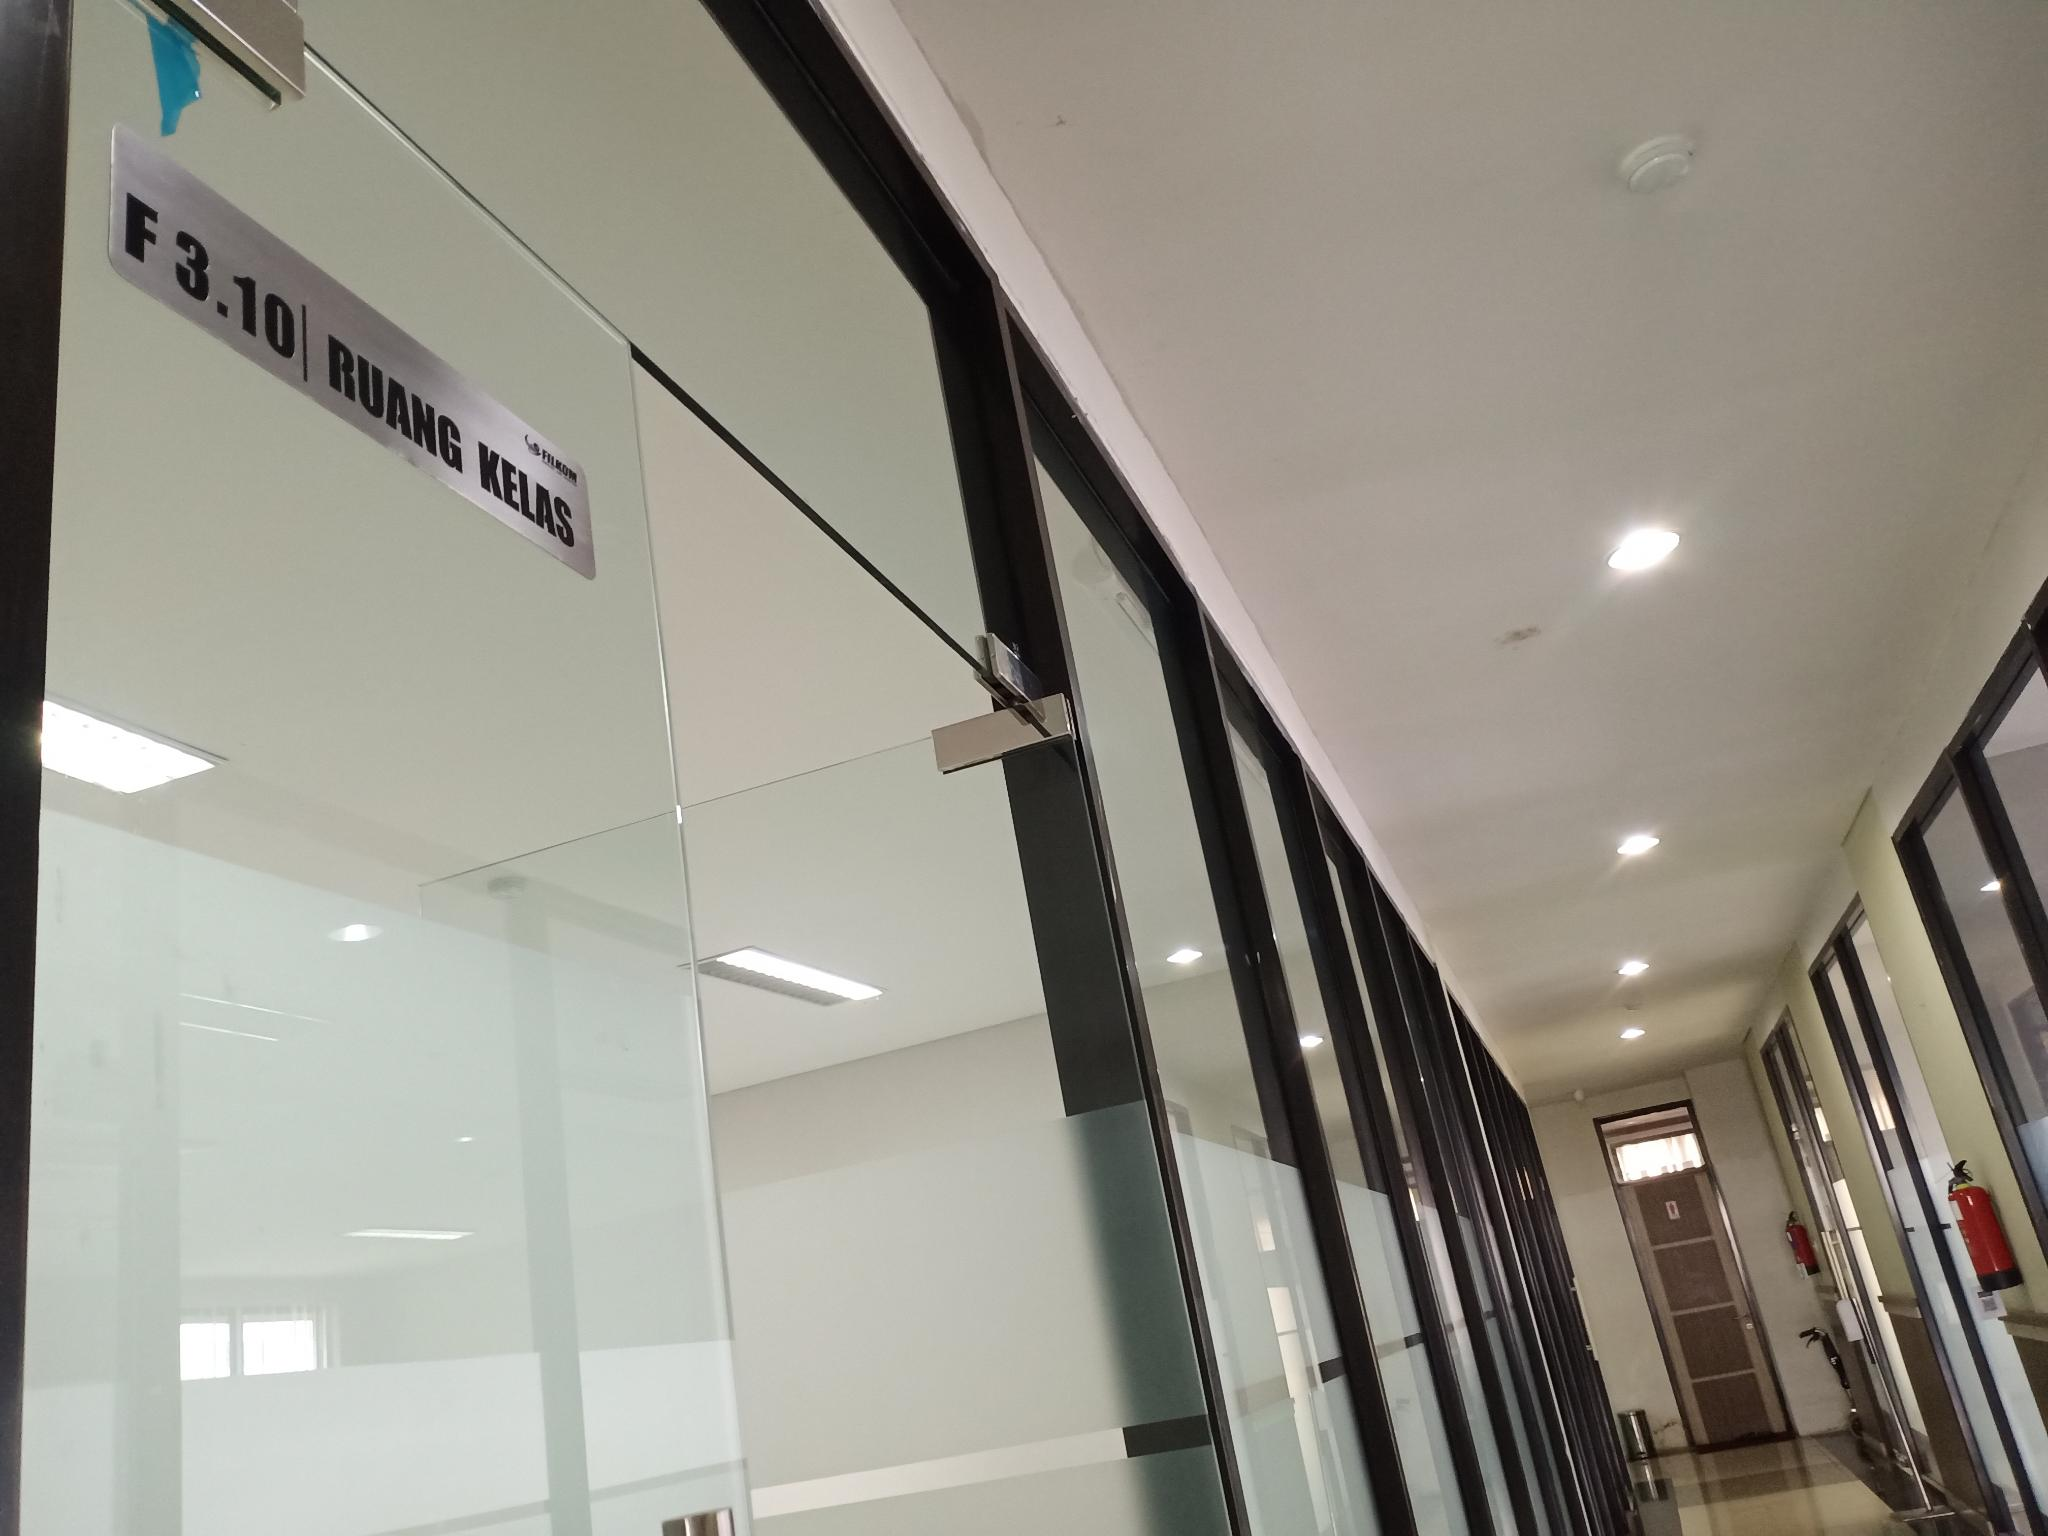plate: (111, 115, 595, 584)
